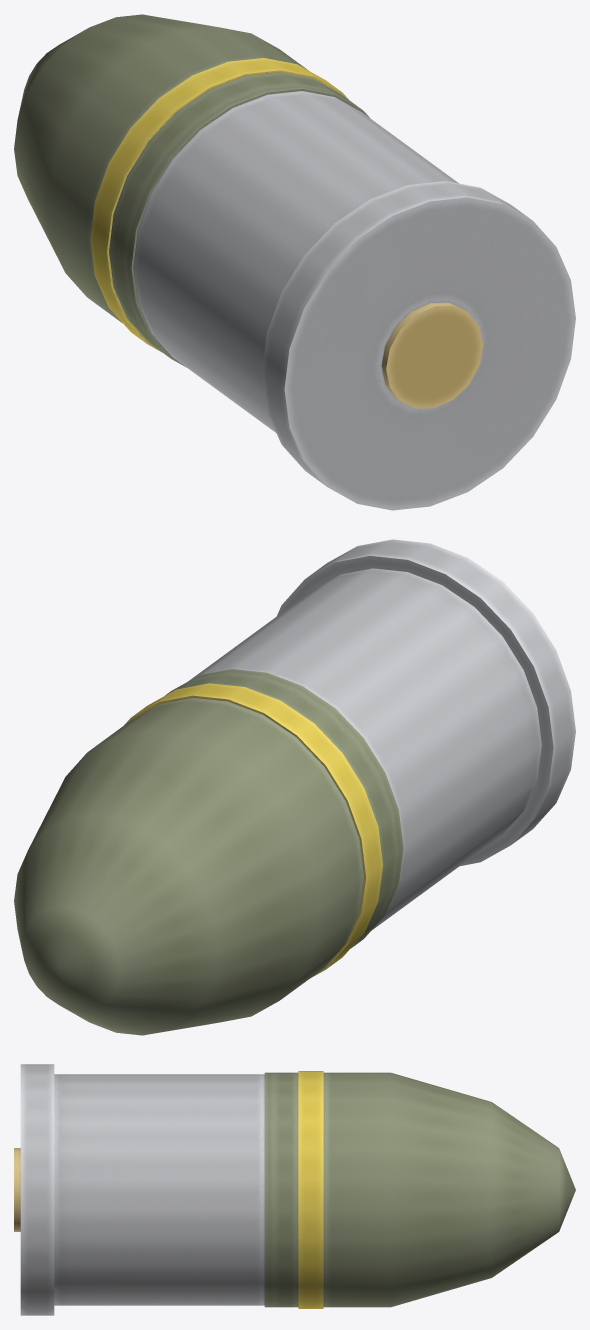
File: AT_Granada40.fbx
The picture shows the model from 3 angles, top to bottom: view 1: azimuth 30°, elevation 25°; view 2: azimuth 150°, elevation 25°; view 3: azimuth 270°, elevation 25°; orthographic projection. The views are drawn at different scales.
Parts seen in each view (by area): view 1: AT_Granada40_export; view 2: AT_Granada40_export; view 3: AT_Granada40_export.
Part boxes in pixels (x1,y1,x2,y2): AT_Granada40_export: (14,14,575,510); AT_Granada40_export: (14,539,575,1035); AT_Granada40_export: (14,1064,575,1315).
Bounding box in the file's own units: 0.03 × 0.0668 × 0.03.
